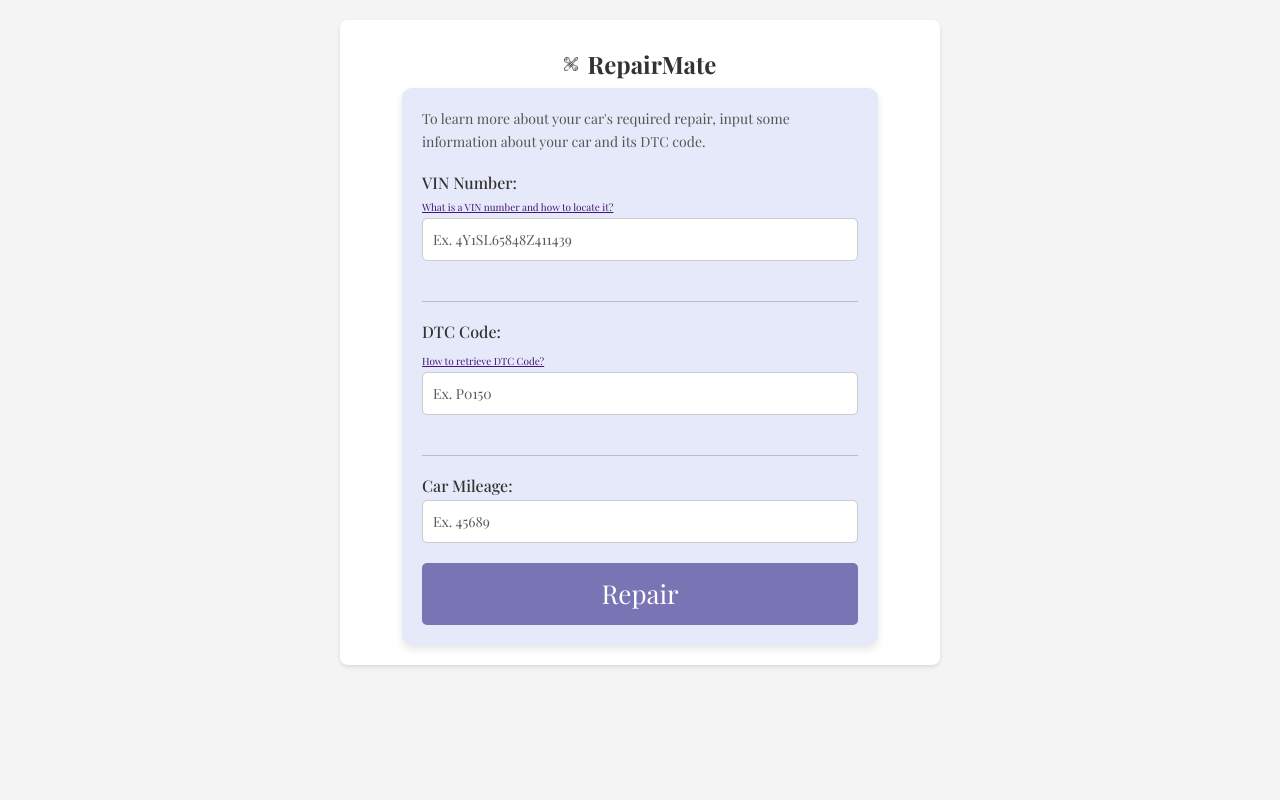
Test case: Request Page › User can click on DTC help which opens a popup with guiding information
The image size is (1280, 800).
Click the button "How to retrieve DTC Code?" at [483, 361], box [422,353,544,369]
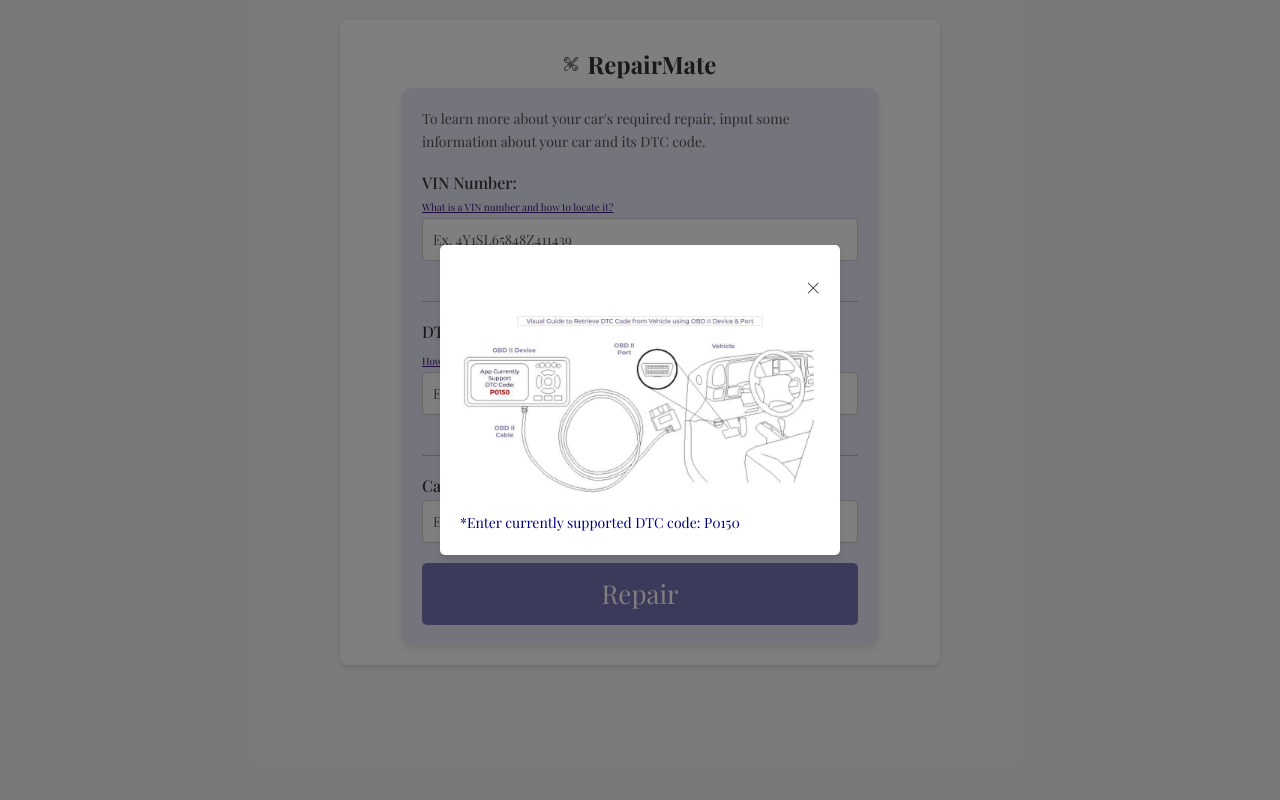
Now the text "*Enter currently supported DTC code: P0150" is shown, box [460,514,740,532]
